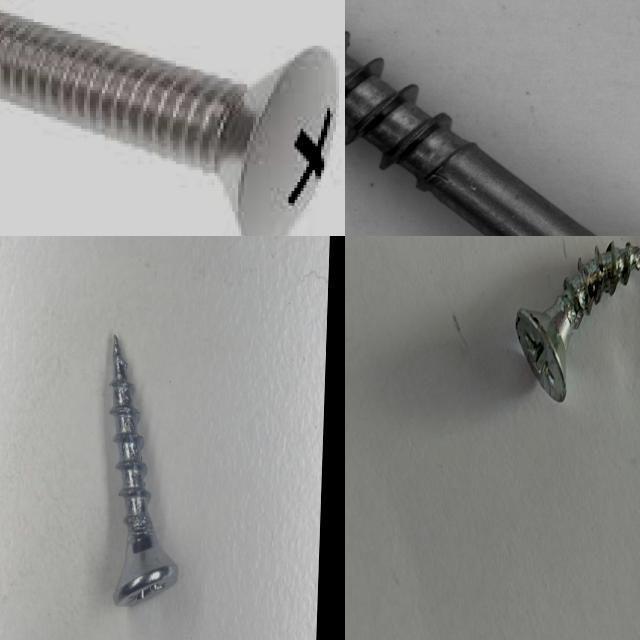Screw: (0, 10, 339, 236), (345, 0, 640, 236), (516, 240, 640, 401), (110, 334, 178, 605)
